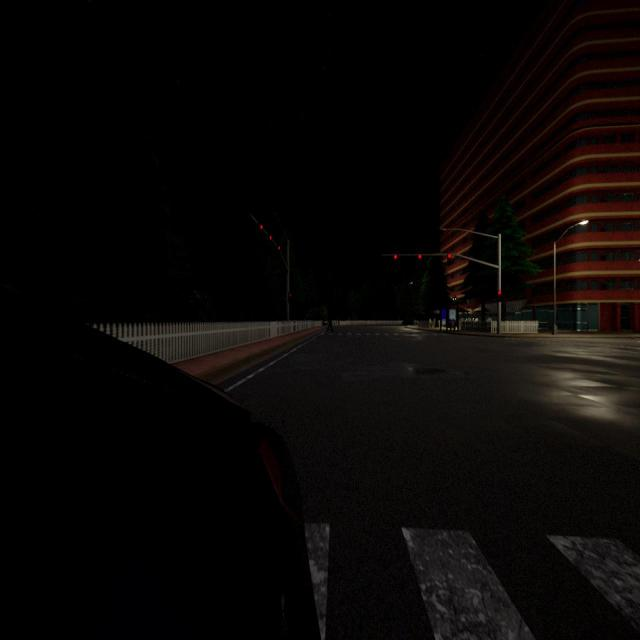Pedestrian: (326, 308, 336, 332)
Vehicle: (0, 288, 318, 637)
traffic_light: (448, 253, 452, 263), (393, 254, 398, 262), (418, 254, 422, 264), (288, 292, 292, 302), (497, 291, 501, 300), (260, 224, 263, 235), (269, 235, 272, 245), (278, 246, 280, 256)
